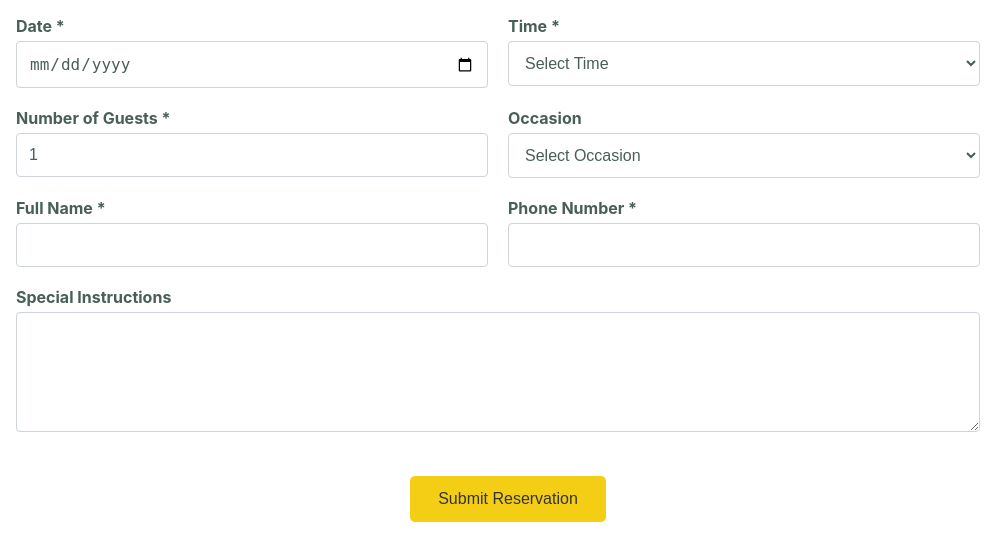
Form submits and redirects
The image size is (997, 539).
Type "John Doe" into the field labelled "Full Name *" at (252, 245), box [16,223,488,267]
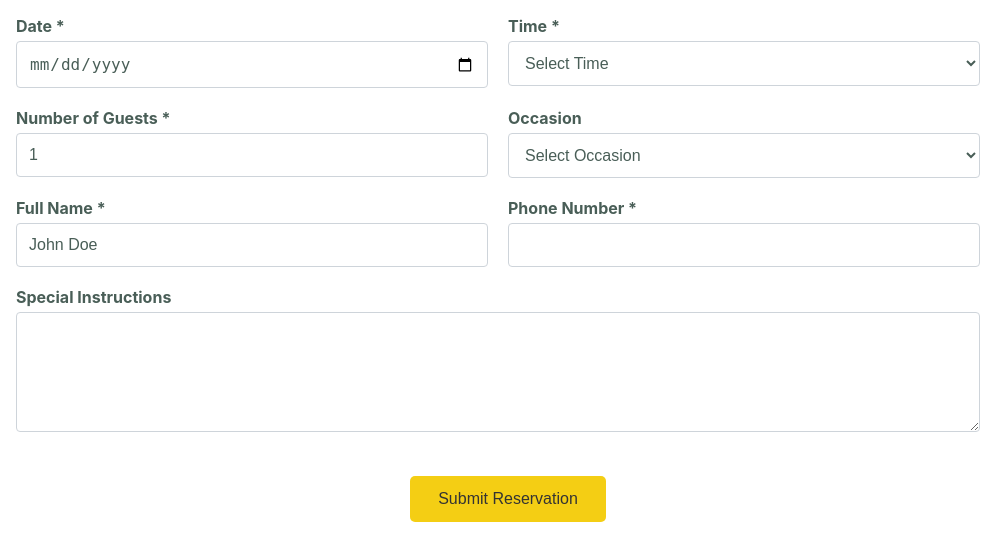
Type "1234567890" into the field labelled "Phone Number *" at (744, 245), box [508,223,980,267]
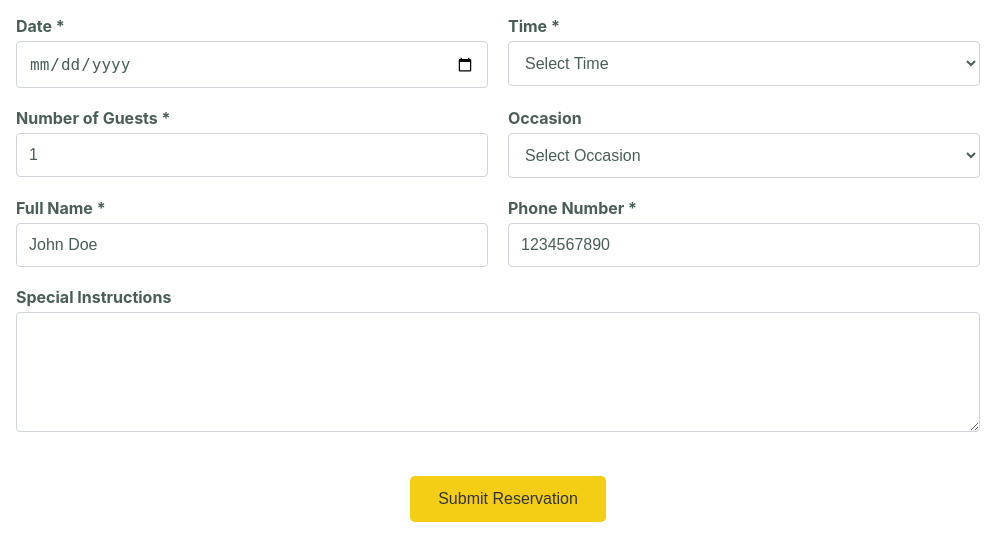
Type "2028-07-15" into the date field labelled "Date *" at (252, 64), box [16,41,488,88]
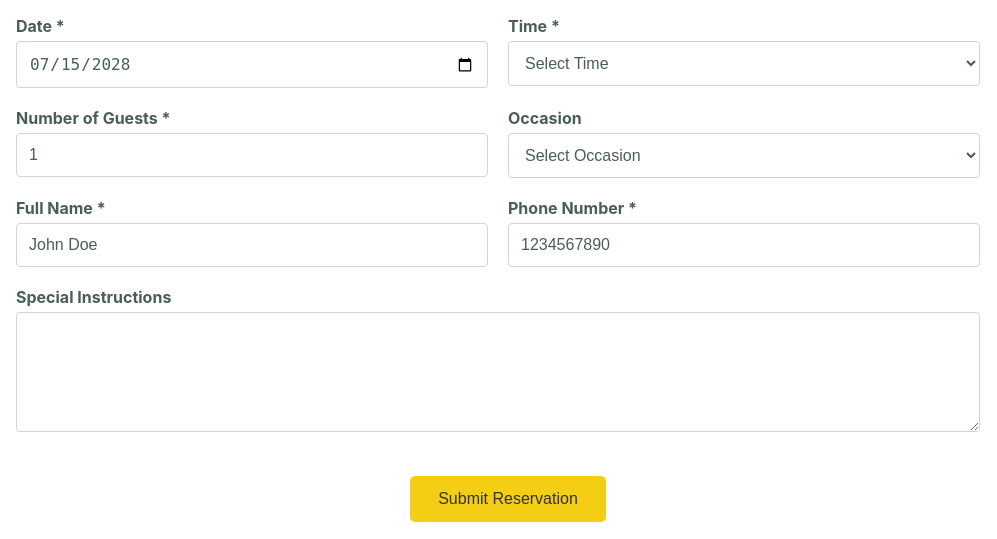
Select "5:00 PM" in the dropdown labelled "Time *" at (744, 64), box [508,41,980,86]
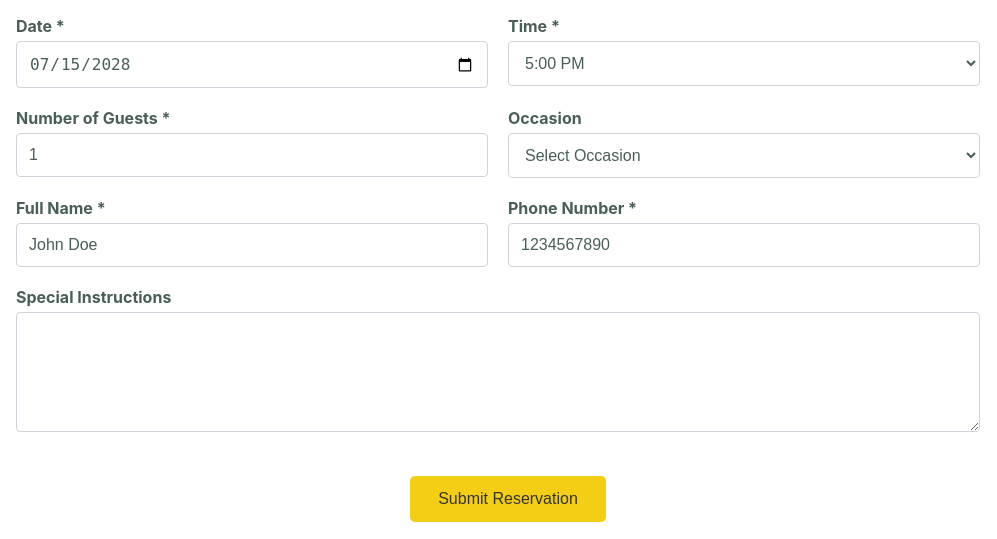
Replace the text in the number field labelled "Number of Guests *" with "2" at (252, 155), box [16,133,488,177]
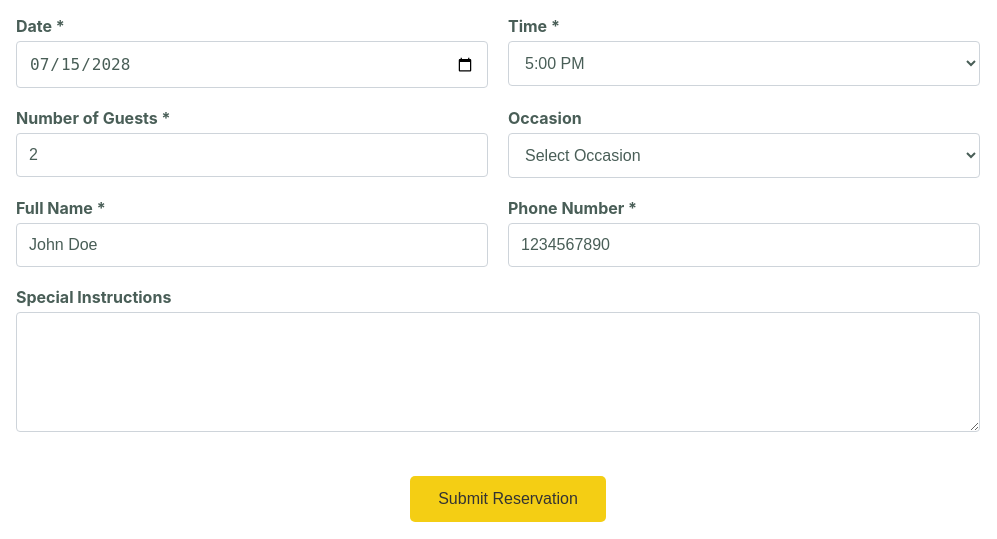
Submit the form from the button "Submit Reservation", box [410,476,606,522]
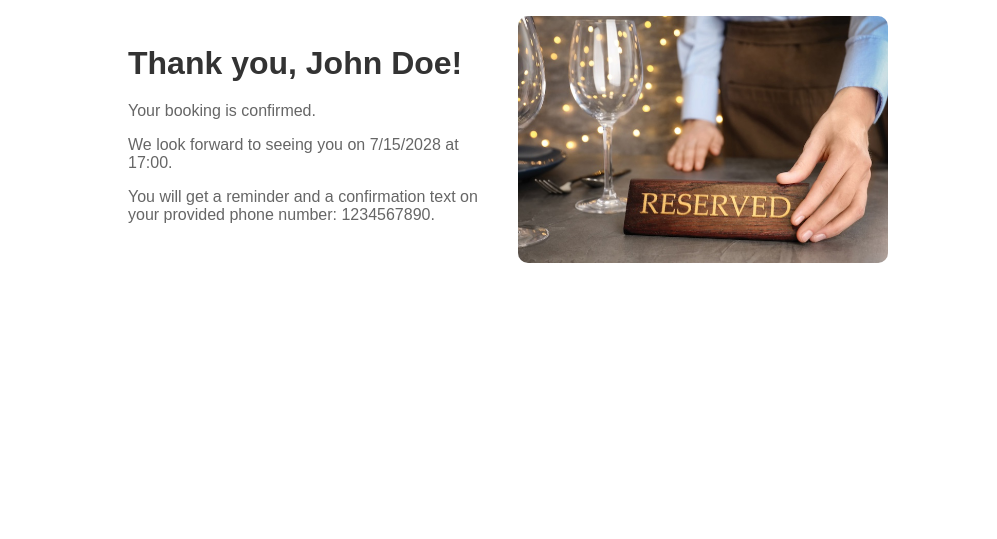
Now the heading "Thank you, John Doe!" is shown, box [128,45,498,82]
